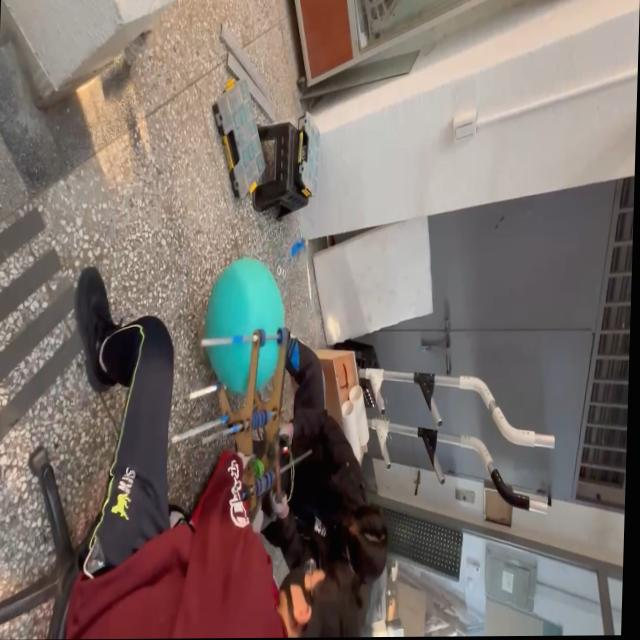ALGAE: (200, 255, 286, 397)
